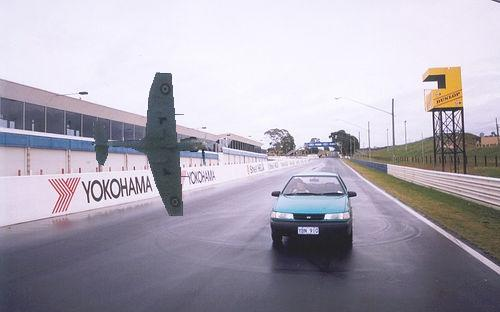tampered: (92, 73, 207, 216)
